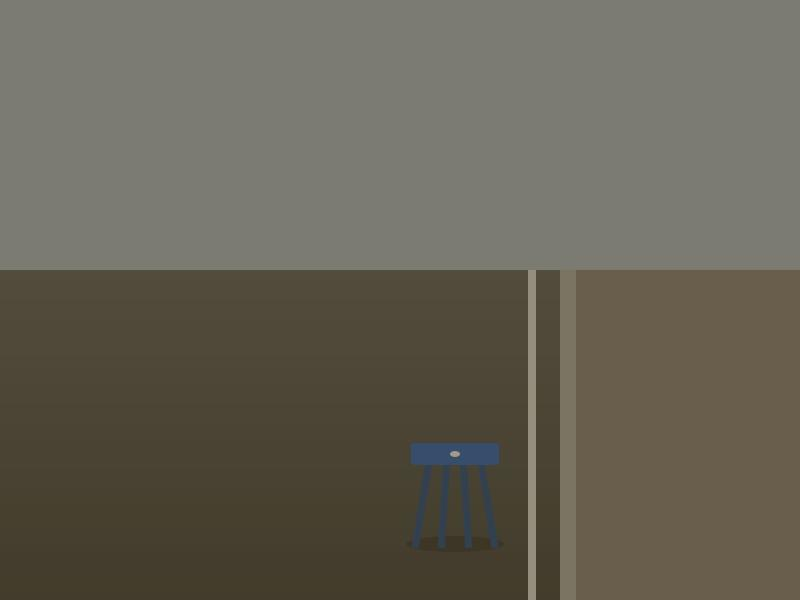ROAD_OBSTACLE: (411, 443, 499, 544)
